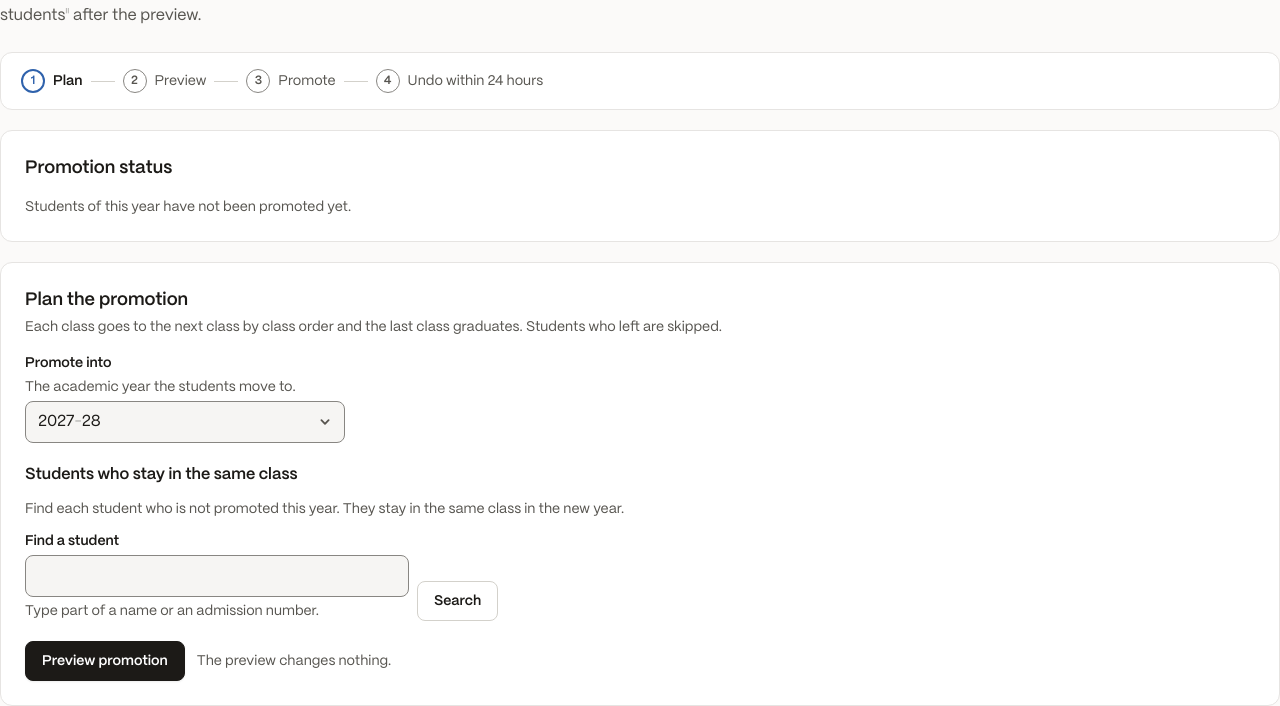
promotions screen (FR-TEN-011, US-202 AC2) › explains no_target_section on commit in plain language
(page scrolled)
Click the button "Preview promotion" at (105, 661), box x1=25 y1=641 x2=185 y2=681
(page scrolled)
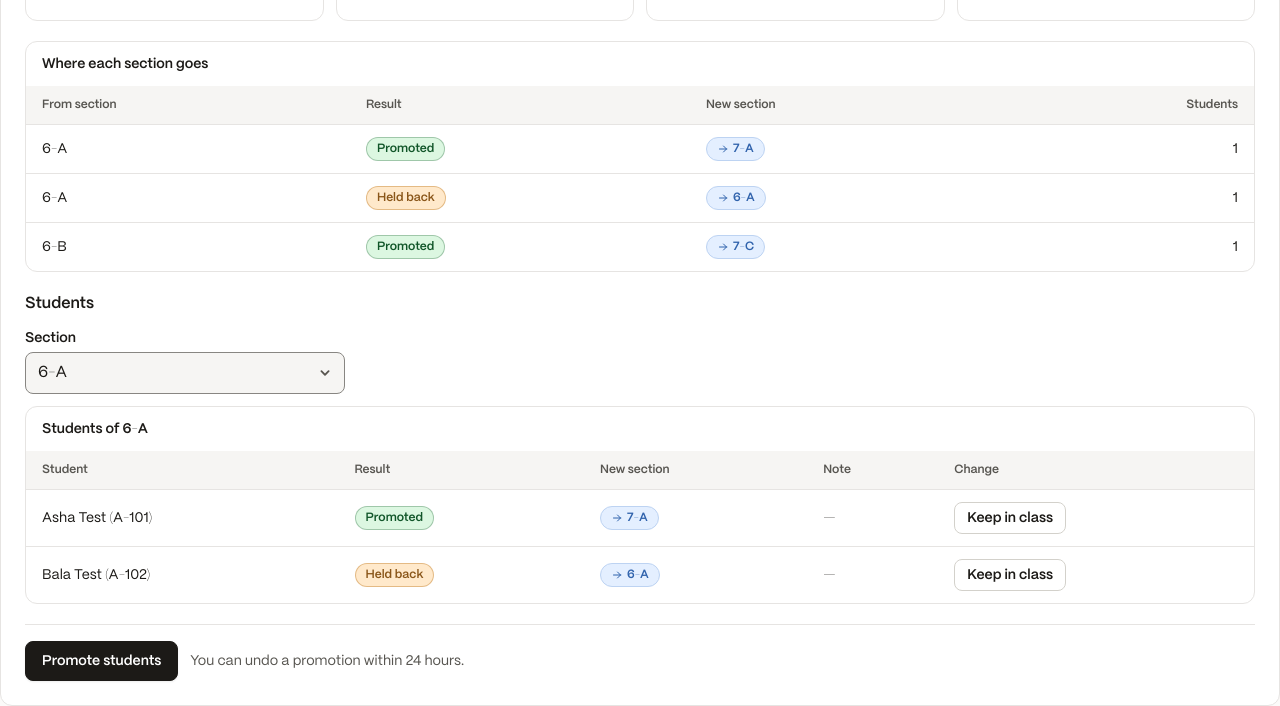
Click the button "Promote students" at (102, 661), box x1=25 y1=641 x2=178 y2=681
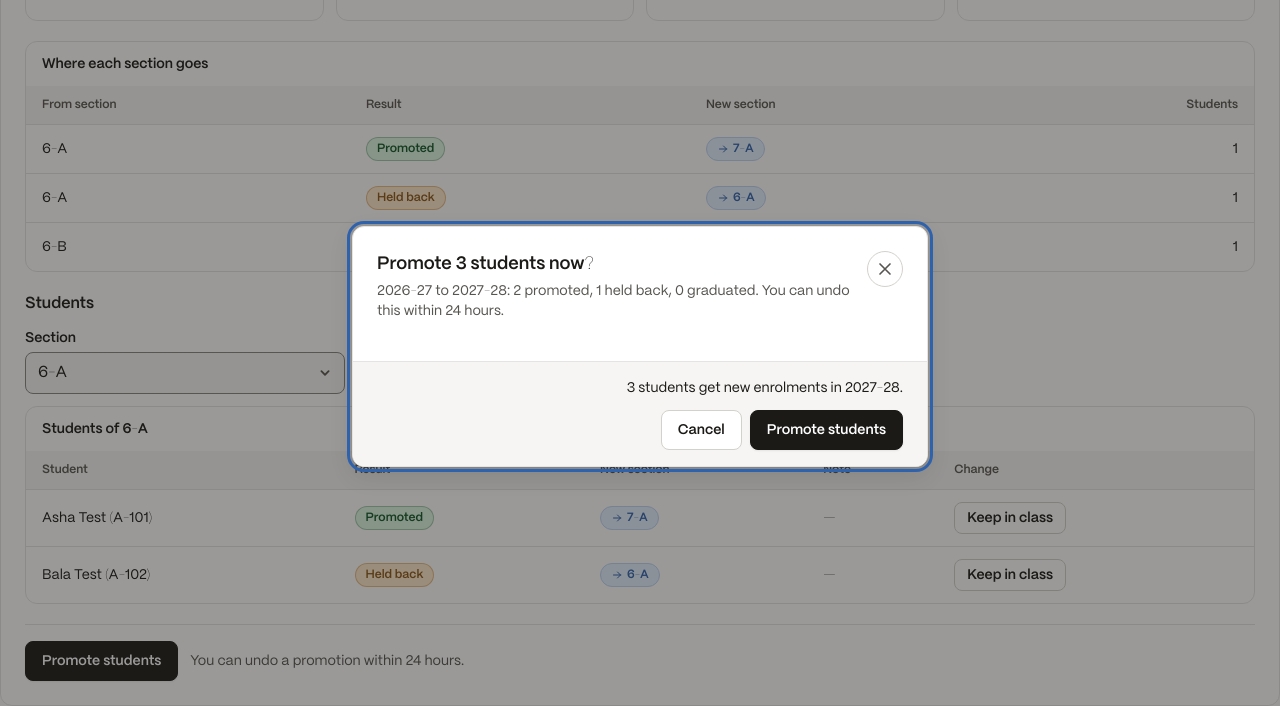
Click the button "Promote students" below "Promote 3 students now?" at (826, 430), box x1=750 y1=410 x2=903 y2=450
(page scrolled)
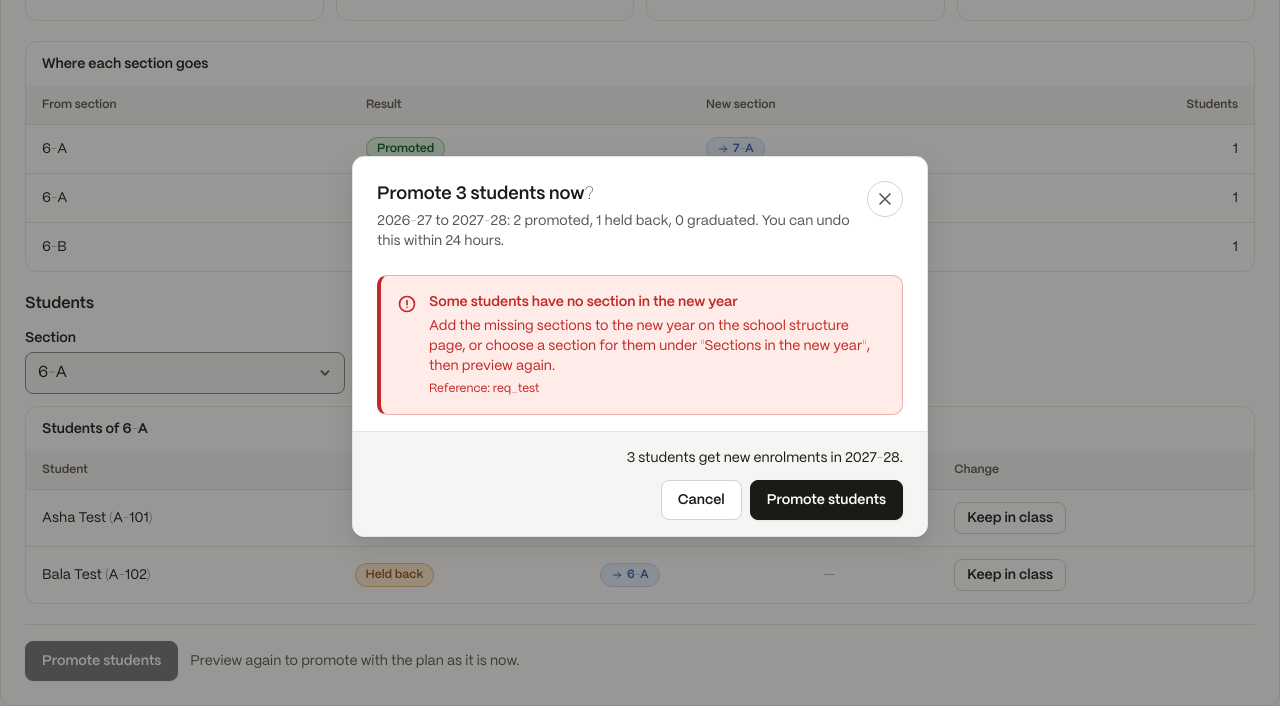
Result: the text "Some students have no section in the new year" is shown at x1=429 y1=294 x2=738 y2=308
